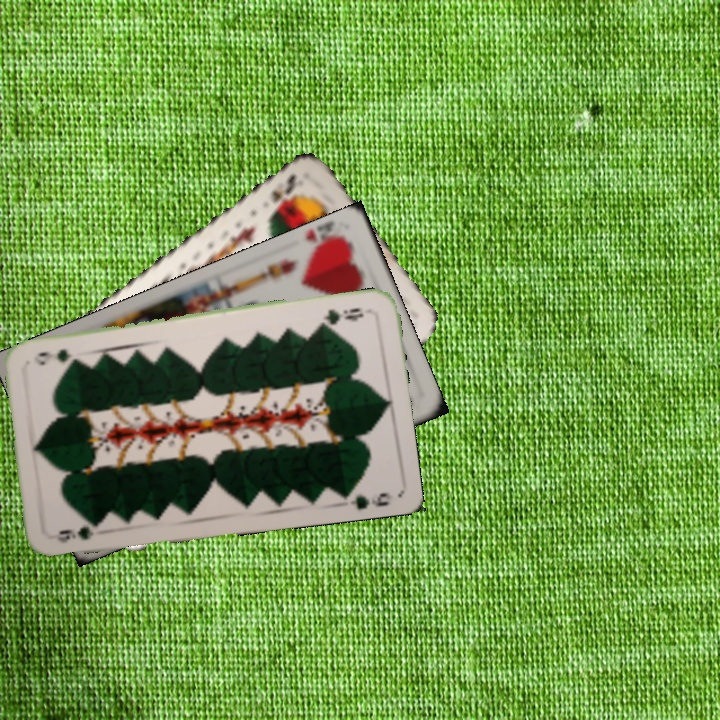G9: (54, 516, 107, 546), (315, 304, 366, 329)
HK: (301, 220, 348, 258)
SK: (266, 170, 300, 216)
